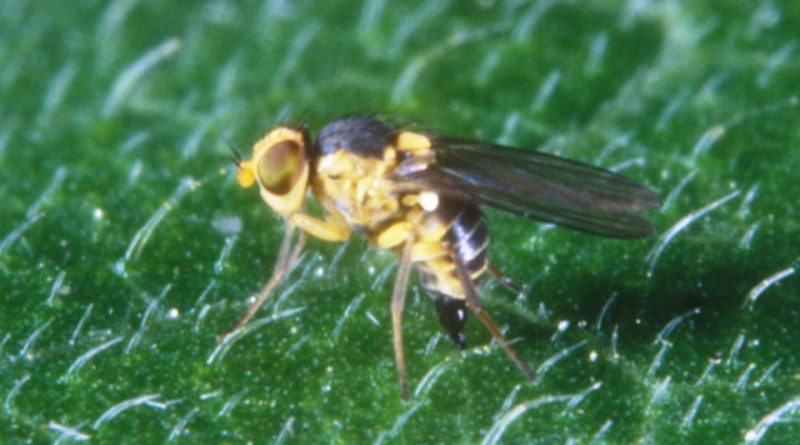Trifoli: (233, 102, 702, 373)
